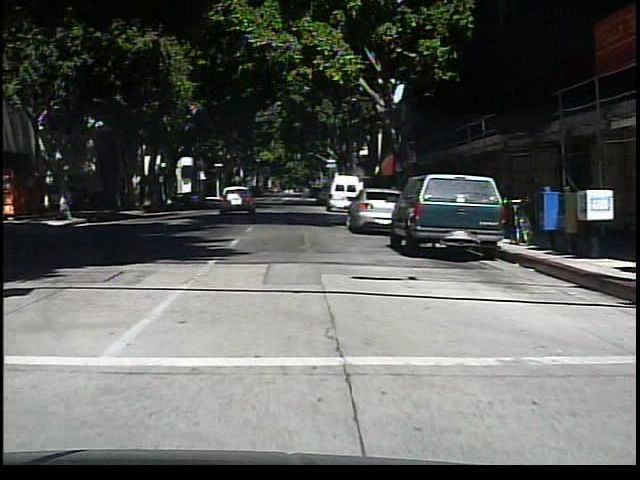person: (55, 178, 73, 221), (294, 178, 313, 206)
